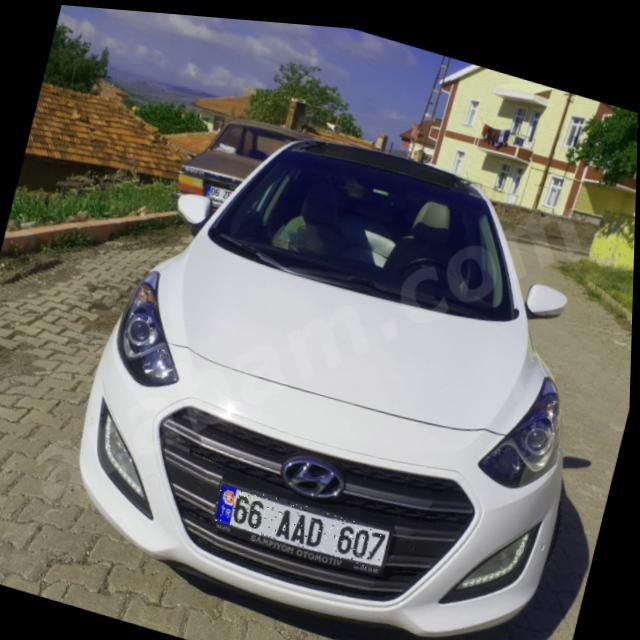license_plate: (214, 476, 395, 564)
